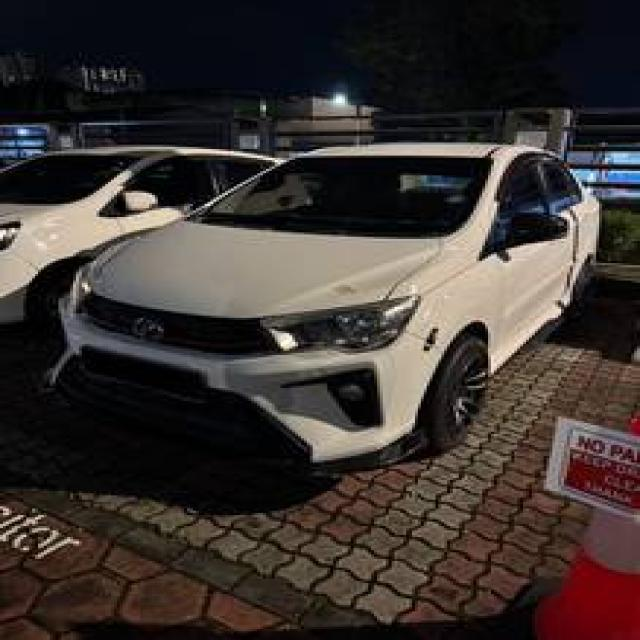PeroduaBezza: (42, 139, 601, 474)
